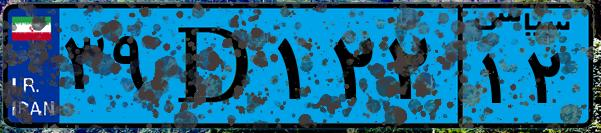1: (270, 28, 330, 110), (475, 38, 525, 113)
2: (385, 28, 445, 110), (330, 28, 385, 110), (525, 38, 570, 115)
3: (57, 26, 110, 100)
9: (110, 28, 158, 98)
D: (158, 12, 270, 120)
